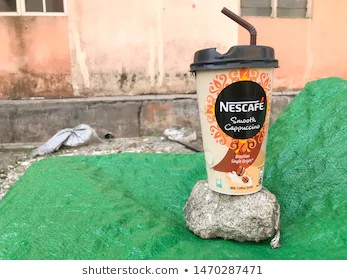nescafe-cappe: (191, 39, 282, 195)
